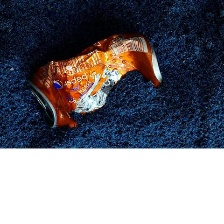can: (24, 28, 167, 134)
